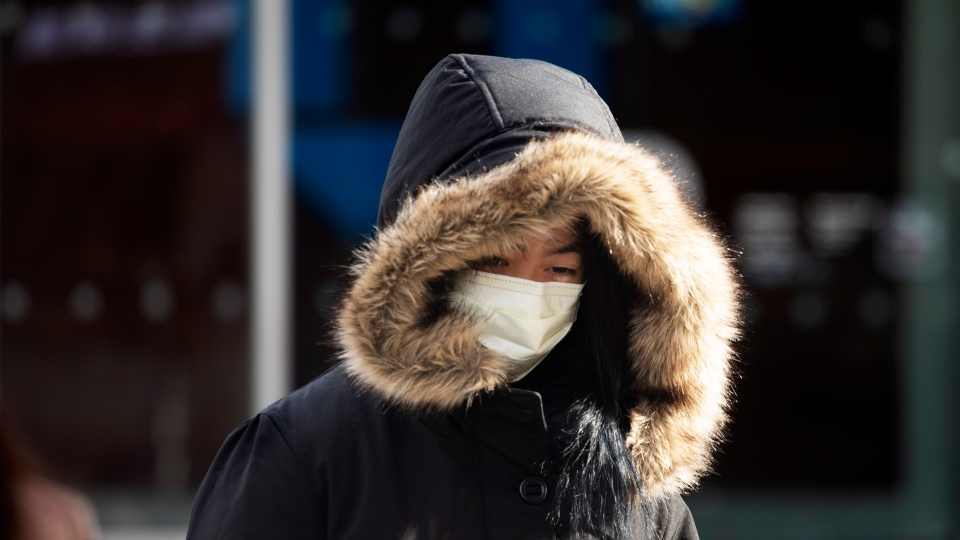with_mask: (436, 194, 603, 386)
